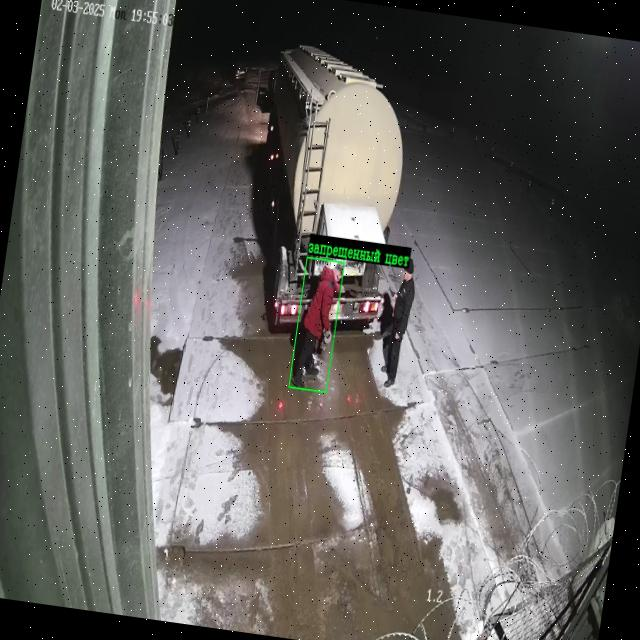Person: (384, 259, 415, 387)
Red uniform: (291, 266, 339, 387)
